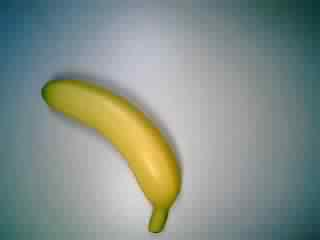banana: (37, 71, 188, 236)
